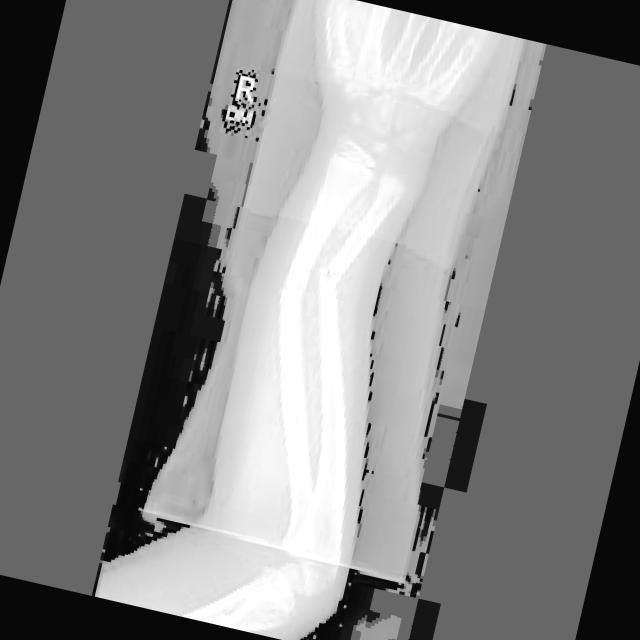GreenStick Fracture: (278, 268, 309, 307), (315, 252, 341, 294)
